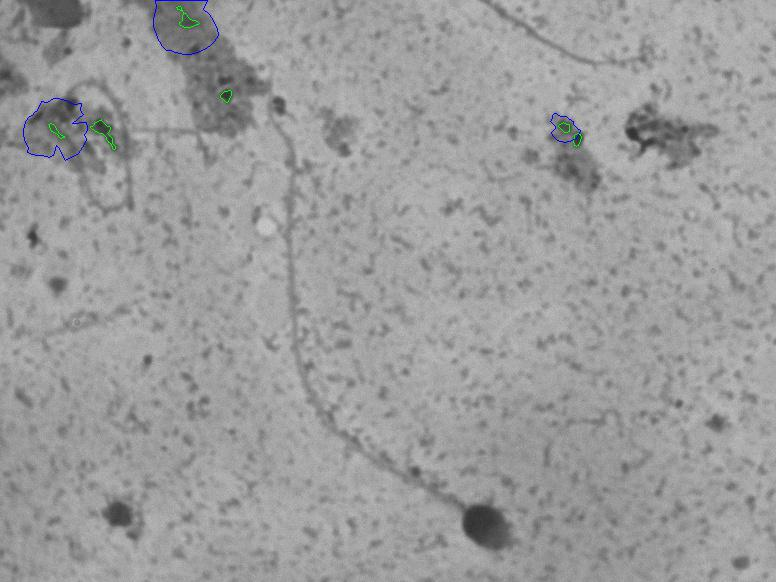Normal: (262, 59, 531, 565)
